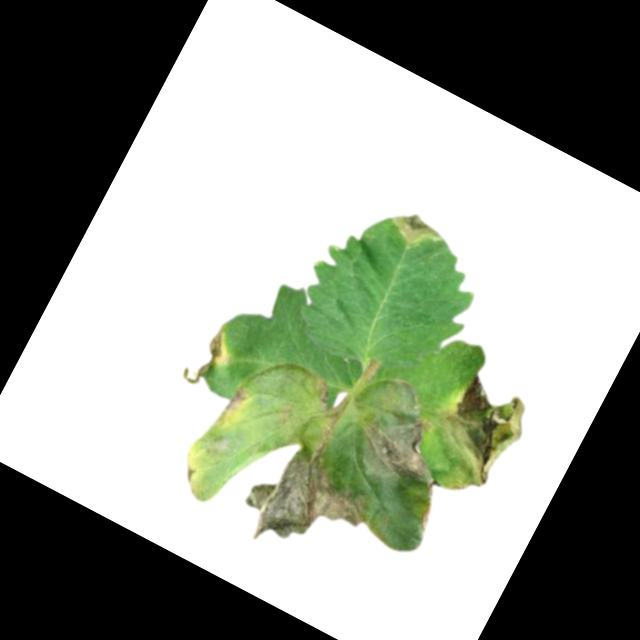Late_blight: (231, 434, 372, 577), (416, 370, 541, 506), (345, 374, 470, 501), (176, 321, 237, 396), (385, 203, 447, 256), (412, 491, 448, 536), (217, 380, 253, 422), (309, 376, 339, 408)
